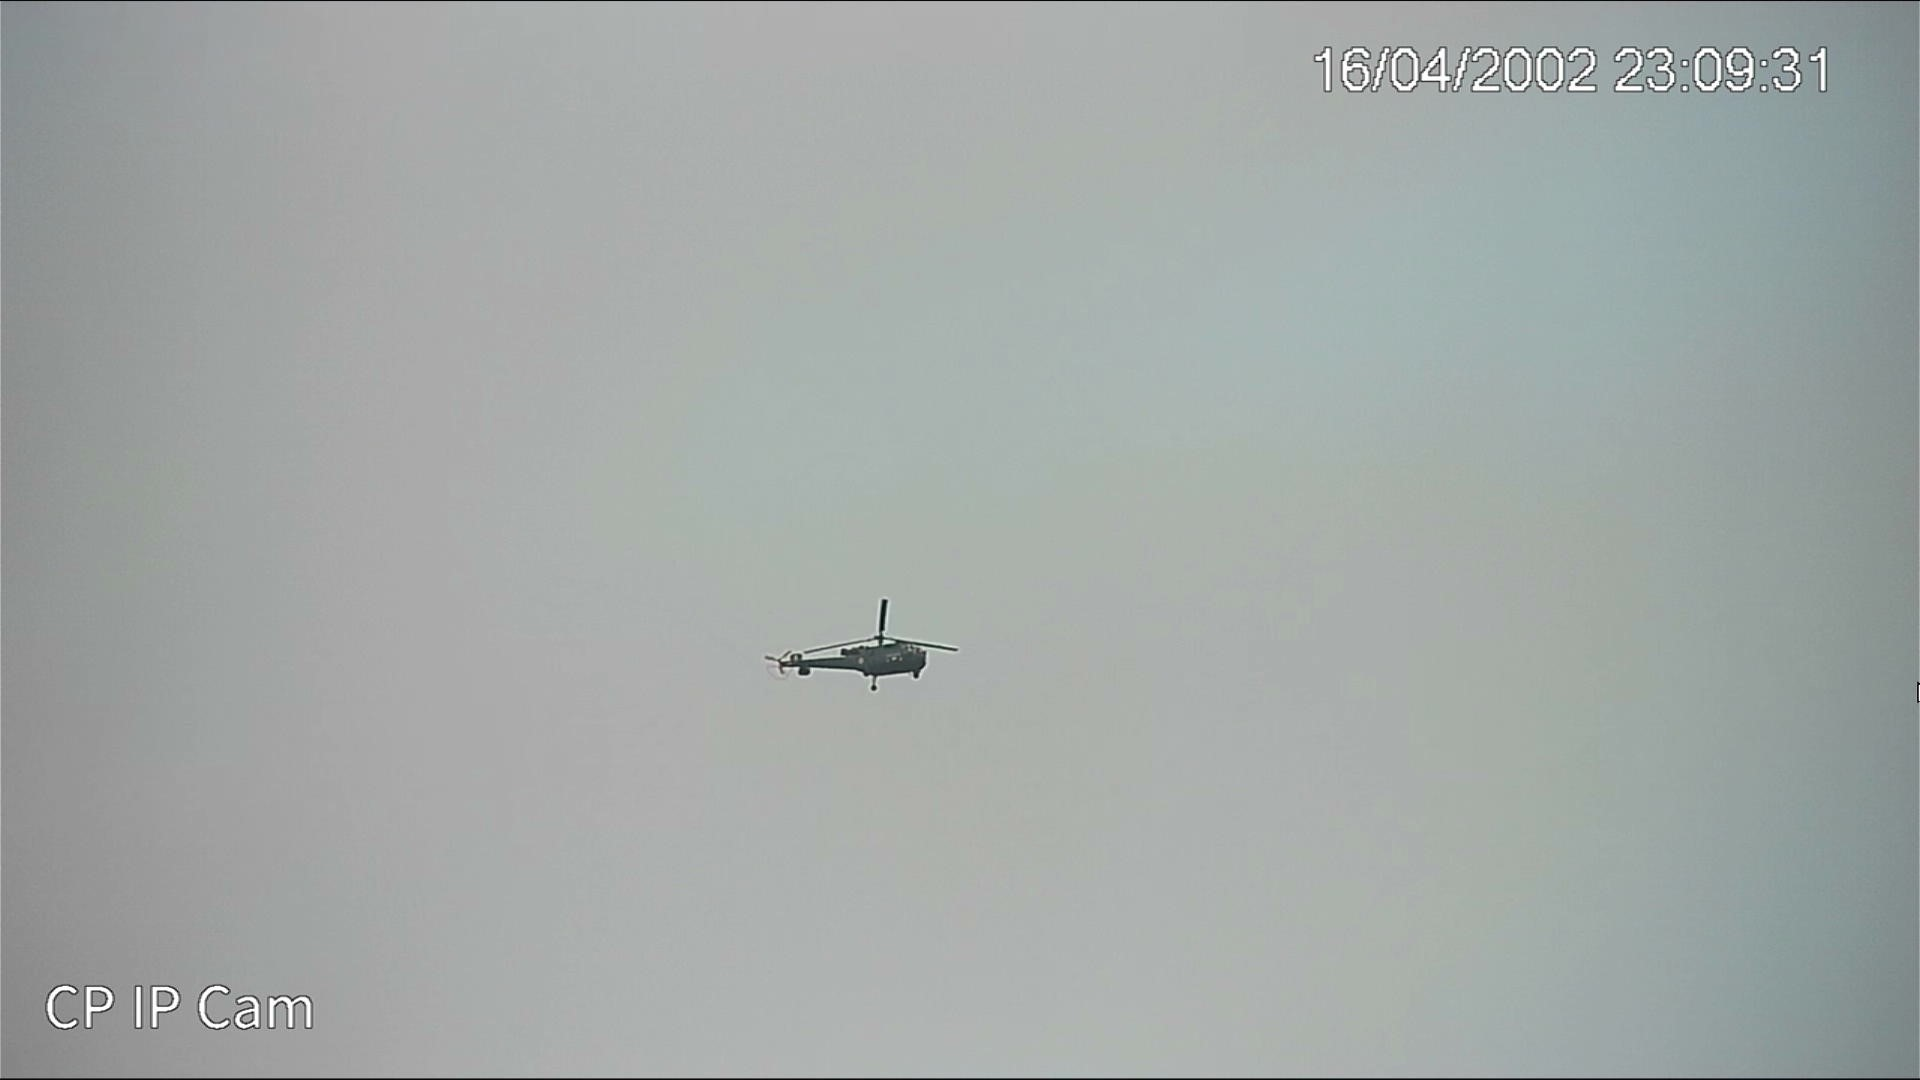SU_30: (760, 625, 928, 684)
